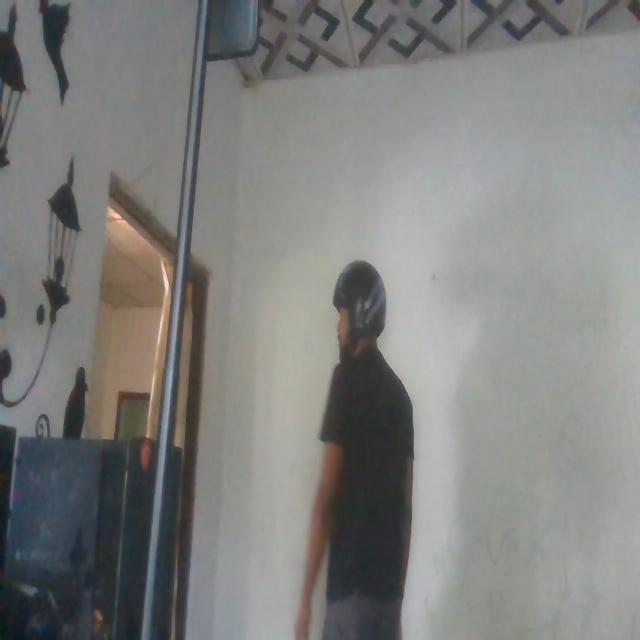Helmet_Wearer: (323, 250, 391, 364)
Person: (303, 254, 417, 640)
